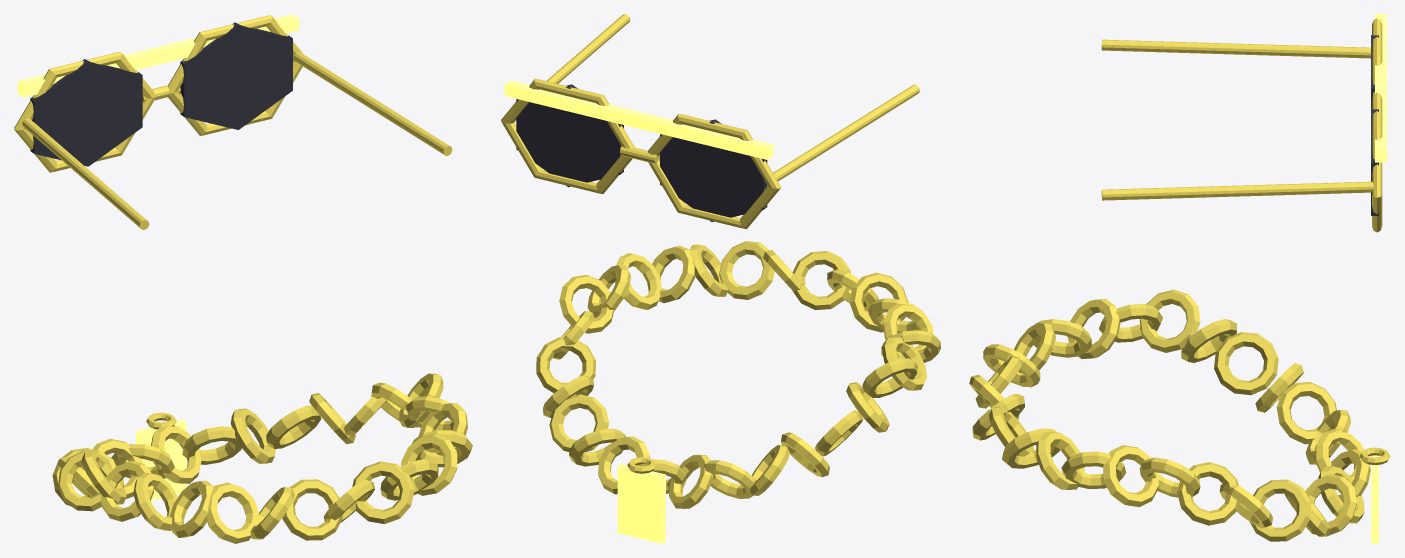
Rendered from shades_chain.glb.
The picture shows the model from 3 angles, left to right: view 1: azimuth 30°, elevation 25°; view 2: azimuth 150°, elevation 25°; view 3: azimuth 270°, elevation 25°; orthographic projection. The views are drawn at different scales.
Parts seen in each view (by area): view 1: DesignerShadesAndChain; view 2: DesignerShadesAndChain; view 3: DesignerShadesAndChain.
Boxes of the visible parts, x1,y1,x2,y2 form: DesignerShadesAndChain: (14, 14, 472, 543); DesignerShadesAndChain: (501, 14, 940, 543); DesignerShadesAndChain: (969, 14, 1390, 543).
Size of the model in its own units: 0.2157 by 0.26 by 0.2159.
